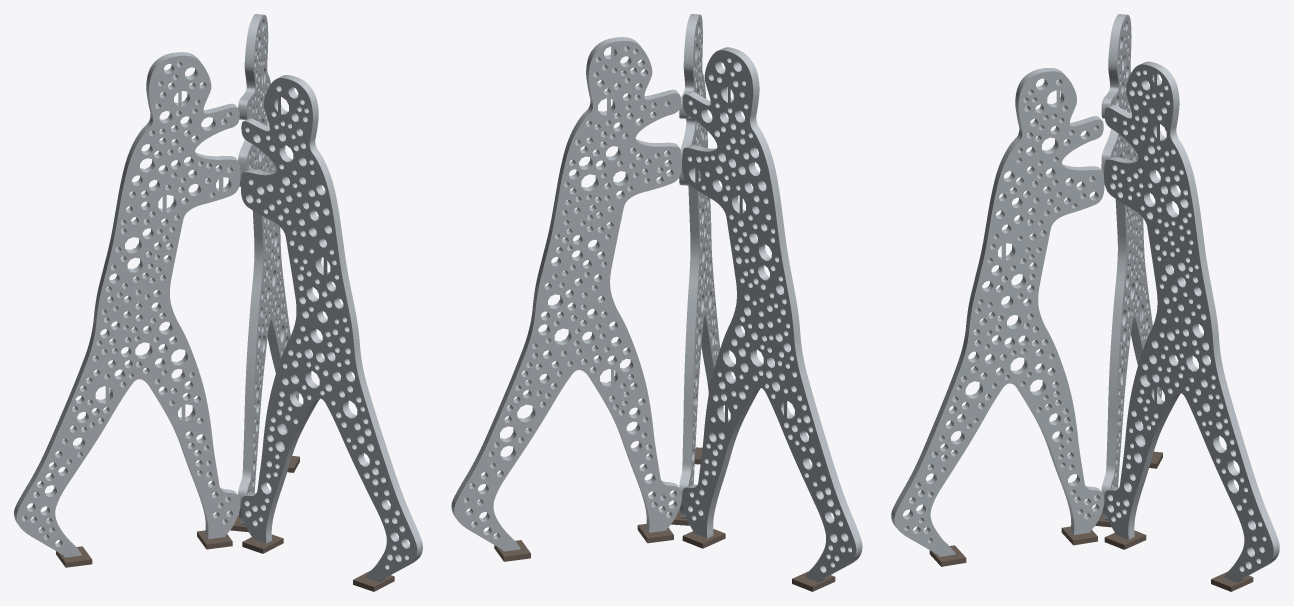
File: berlin-molecule-man.detail.glb
The picture shows the model from 3 angles, left to right: view 1: azimuth 30°, elevation 25°; view 2: azimuth 150°, elevation 25°; view 3: azimuth 270°, elevation 25°; orthographic projection. The views are drawn at different scales.
Parts seen in each view (by area): view 1: Molecule Man; view 2: Molecule Man; view 3: Molecule Man.
Part boxes in pixels (left/top/right/bottom): Molecule Man: left=14, top=14, right=422, bottom=591; Molecule Man: left=451, top=14, right=862, bottom=591; Molecule Man: left=891, top=14, right=1279, bottom=591.
Bounding box in the file's own units: 21.9 × 29.98 × 21.66.
